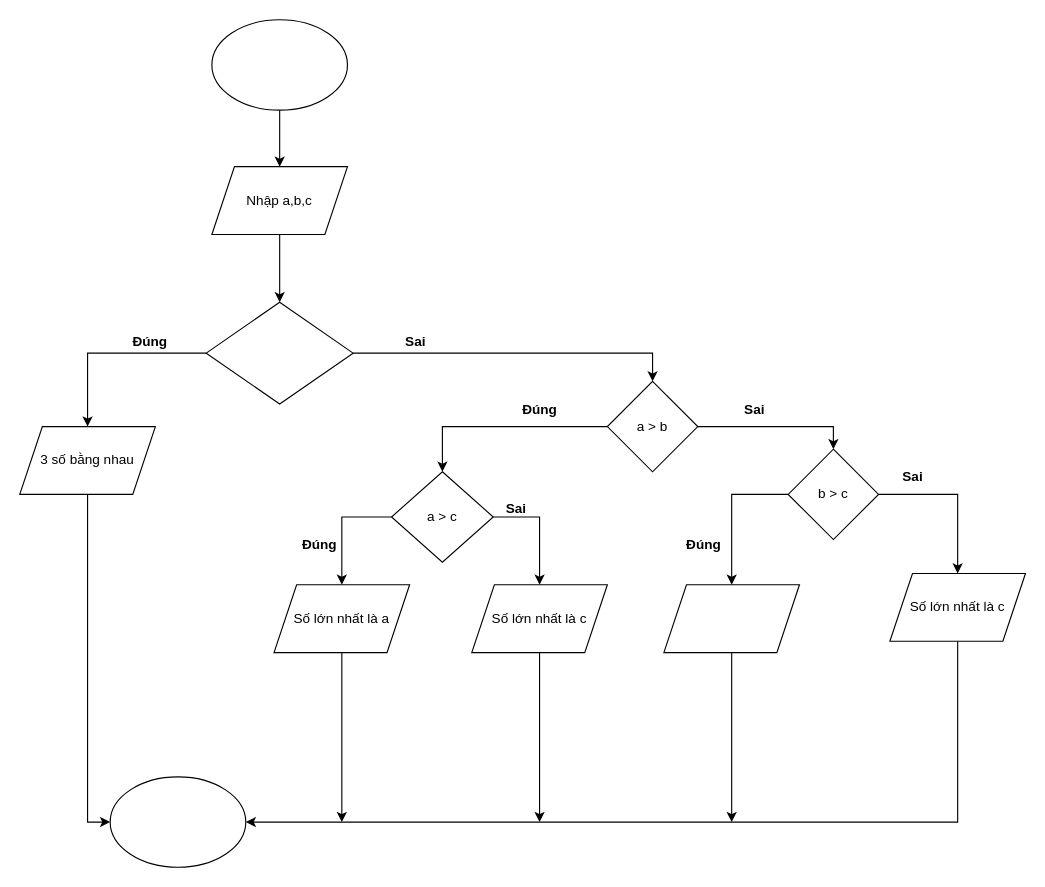
Some shapes in this 1045 by 887 pixel diagram are drawn without their labels. Here are the shapes that lost their labels. From the top down, the box of each, then its label:
(211, 19, 347, 110): Bắt
(205, 301, 353, 404): a = b = c
(663, 584, 799, 653): Số lớn nhất là b
(109, 776, 246, 867): Kết thúc
